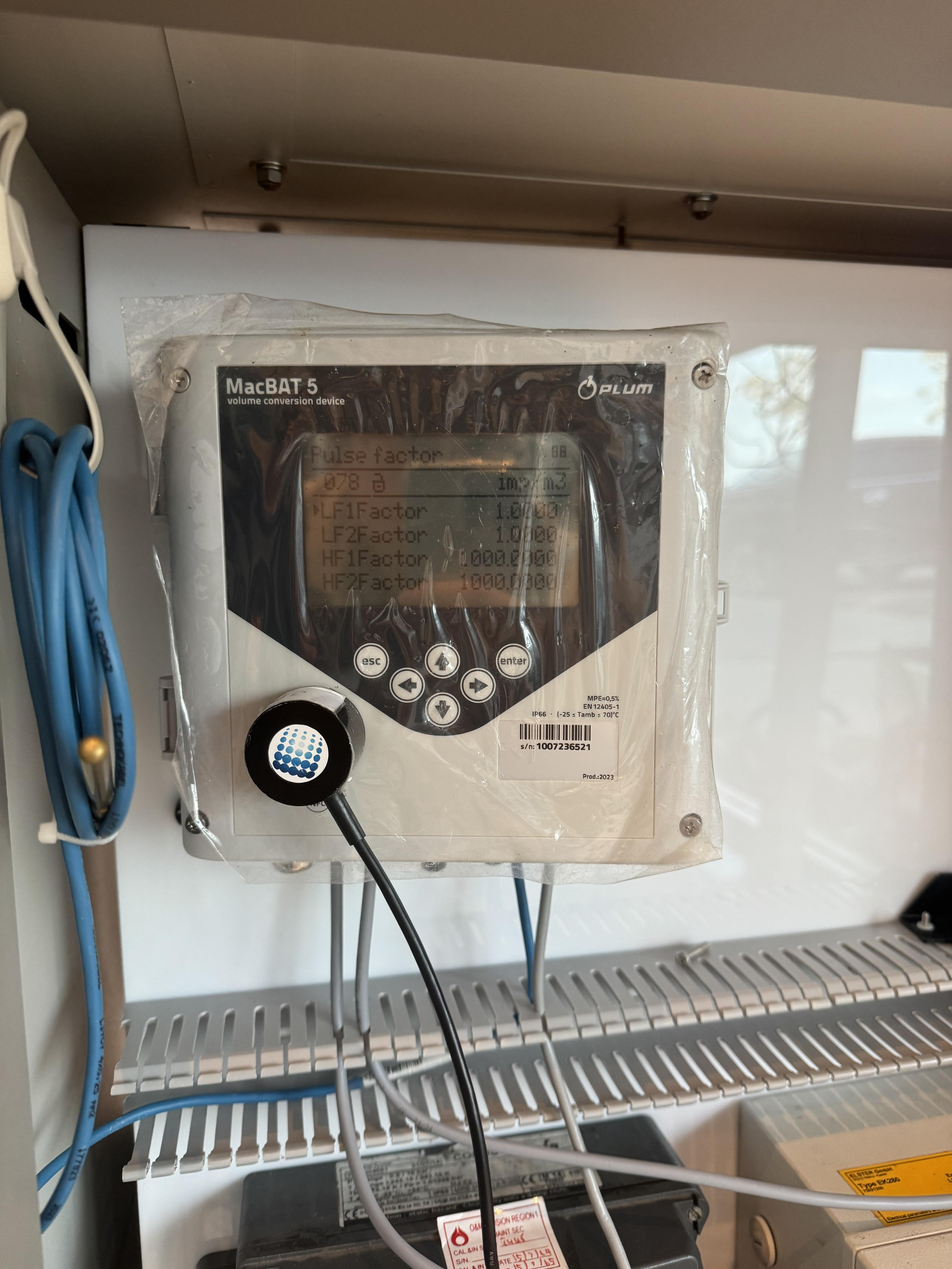digital_screen: (302, 436, 579, 606)
